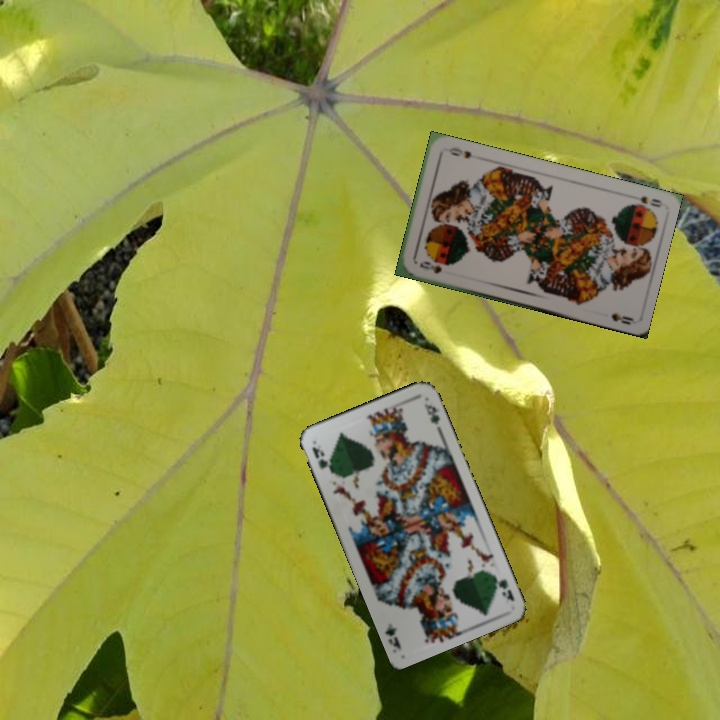GK: (488, 570, 517, 604), (308, 442, 336, 476)
SO: (415, 257, 444, 276), (636, 192, 664, 210)
